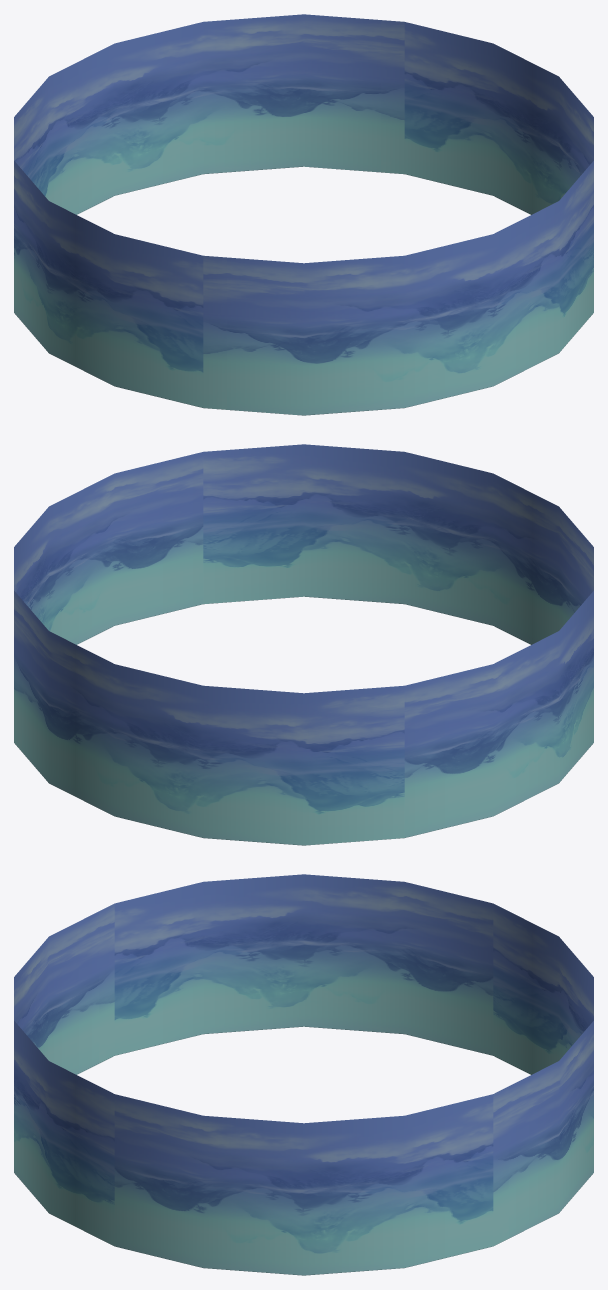
File: beijing.FBX
3 renders of one model, top to bottom at view 1: azimuth 30°, elevation 25°; view 2: azimuth 150°, elevation 25°; view 3: azimuth 270°, elevation 25°, orthographic.
Visible parts, largest first — view 1: Cylinder01; view 2: Cylinder01; view 3: Cylinder01.
Boxes of the visible parts, x1,y1,x2,y2 form: Cylinder01: (14,14,593,415); Cylinder01: (14,444,593,845); Cylinder01: (14,874,593,1275).
Bounding box in the file's own units: 204 × 58.13 × 200.
